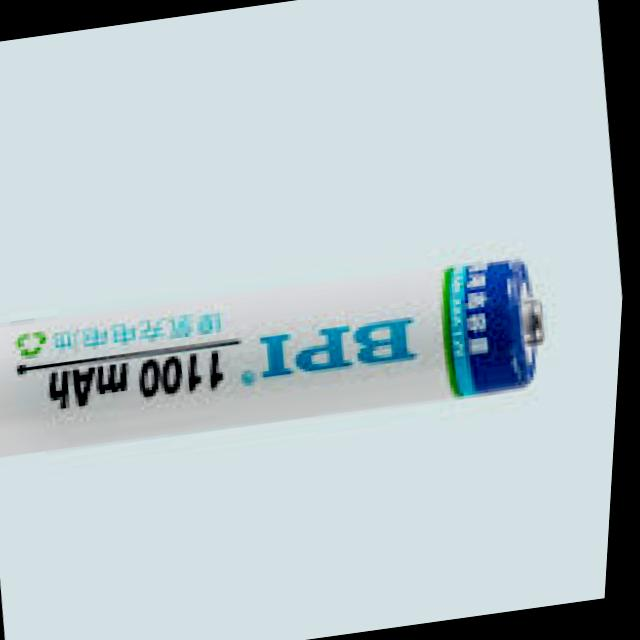B3: (0, 216, 573, 544)
